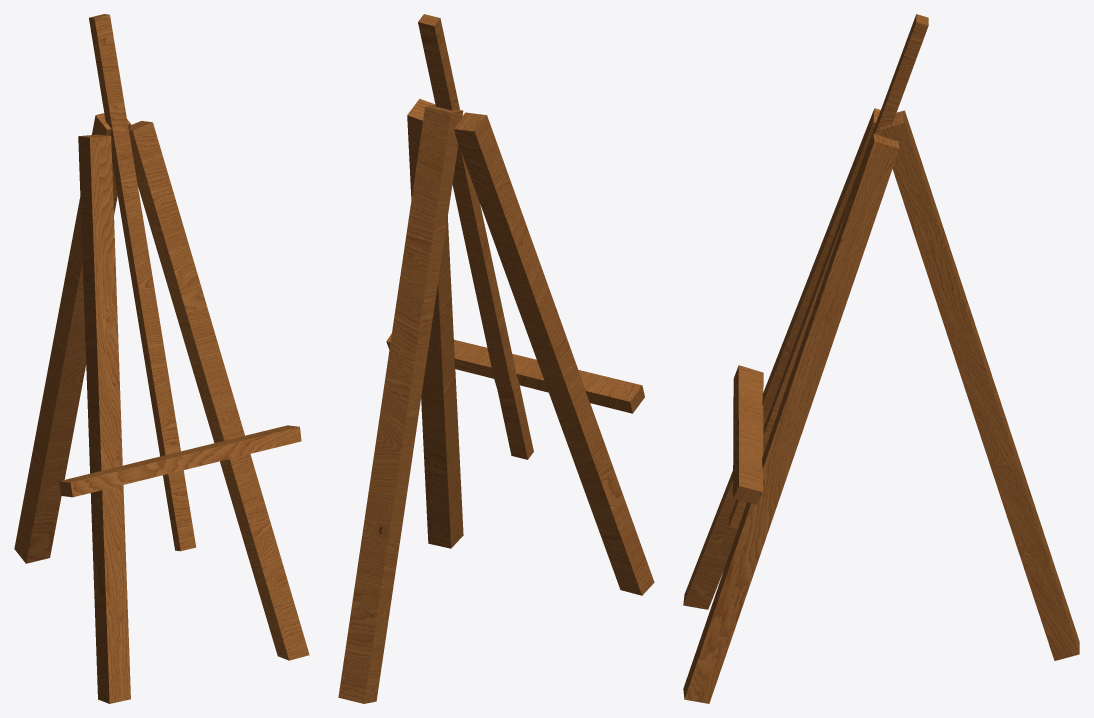
File: ASM - PBR Metallic Roughness.gltf
3 views of the same model, side by side, from view 1: azimuth 30°, elevation 25°; view 2: azimuth 150°, elevation 25°; view 3: azimuth 270°, elevation 25° (orthographic). The views are drawn at different scales.
Visible parts, largest first — view 1: Box002; view 2: Box002; view 3: Box002.
Boxes of the visible parts, box(x1,y1,x2,y2) form: Box002: box(14, 14, 309, 703); Box002: box(338, 14, 654, 703); Box002: box(683, 14, 1079, 703).
Size of the model in its own units: 0.6535 by 1.61 by 0.907.
Materials: 1 (1 with a texture image).
